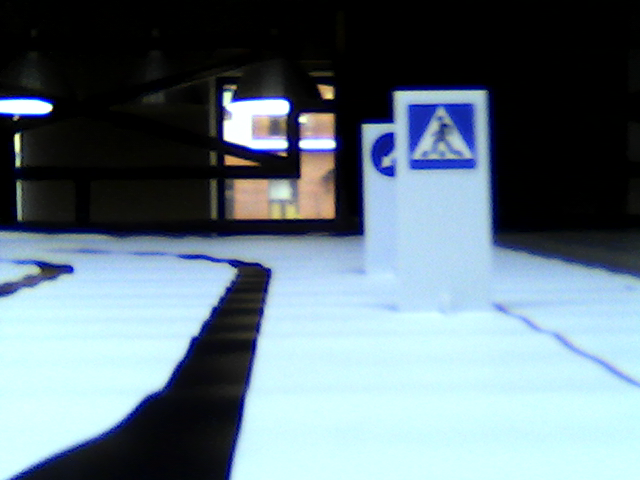pesh: (407, 100, 476, 171)
